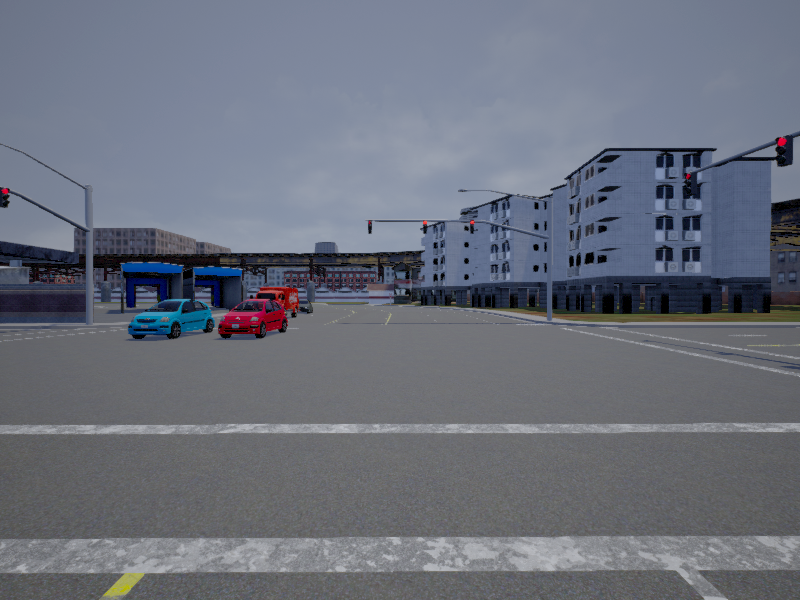Benign: (130, 299, 214, 339), (220, 300, 288, 337), (257, 288, 298, 319)
